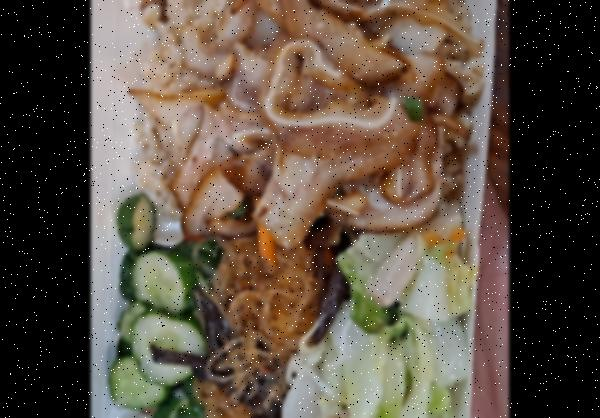box: (109, 0, 499, 418)
brown rice: (124, 0, 481, 229)
pig ear: (206, 4, 464, 234)
side dish: (326, 232, 456, 418), (200, 232, 317, 418), (113, 224, 208, 418)
